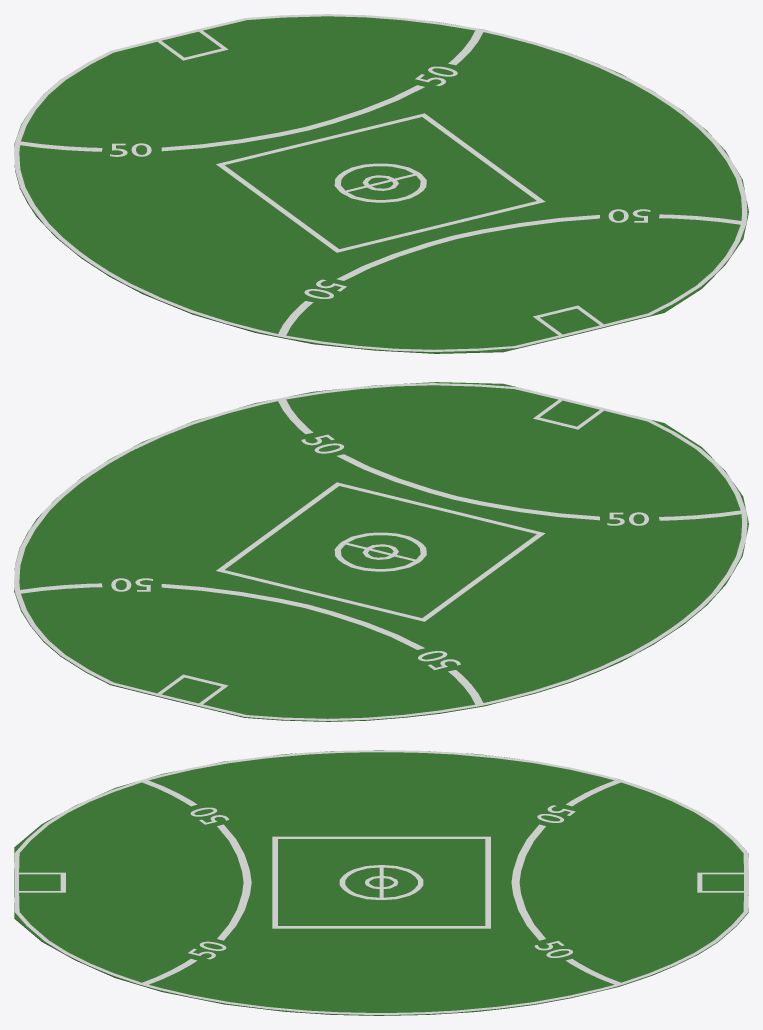
File: AFL Oval.fbx
The picture shows the model from 3 angles, top to bottom: view 1: azimuth 30°, elevation 25°; view 2: azimuth 150°, elevation 25°; view 3: azimuth 270°, elevation 25°; orthographic projection. The views are drawn at different scales.
Parts seen in each view (by area): view 1: AFL Oval; view 2: AFL Oval; view 3: AFL Oval.
Boxes of the visible parts, box(x1,y1,x2,y2) form: AFL Oval: box(14, 14, 748, 353); AFL Oval: box(14, 382, 748, 721); AFL Oval: box(14, 750, 748, 1015).
Size of the model in its own units: 23769 by 30.81 by 27827.
